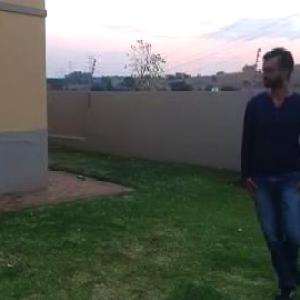follow: (229, 39, 299, 295)
